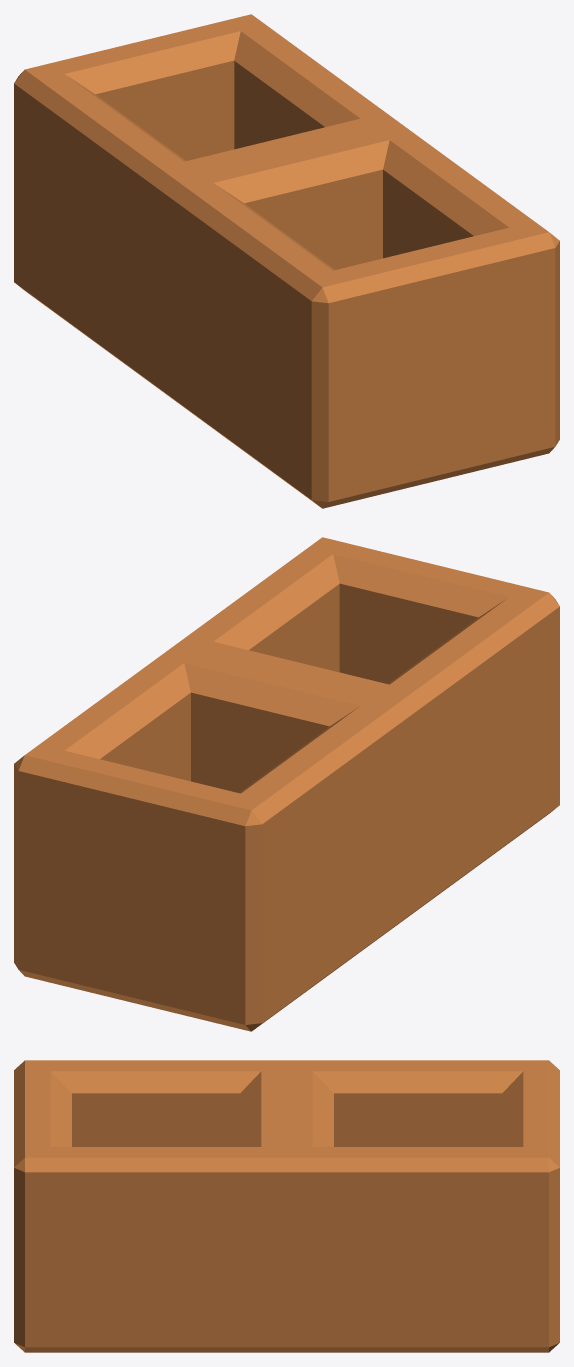
File: props_35.glb
3 renders of one model, top to bottom at view 1: azimuth 30°, elevation 25°; view 2: azimuth 150°, elevation 25°; view 3: azimuth 270°, elevation 25°, orthographic. The views are drawn at different scales.
Parts seen in each view (by area): view 1: props_35; view 2: props_35; view 3: props_35.
Part boxes in pixels (left/top/right/bottom): props_35: left=14, top=14, right=559, bottom=508; props_35: left=14, top=537, right=559, bottom=1031; props_35: left=14, top=1060, right=559, bottom=1352.
Size of the model in its own units: 0.2569 by 0.2188 by 0.5558.
1 material, 1 textured.
